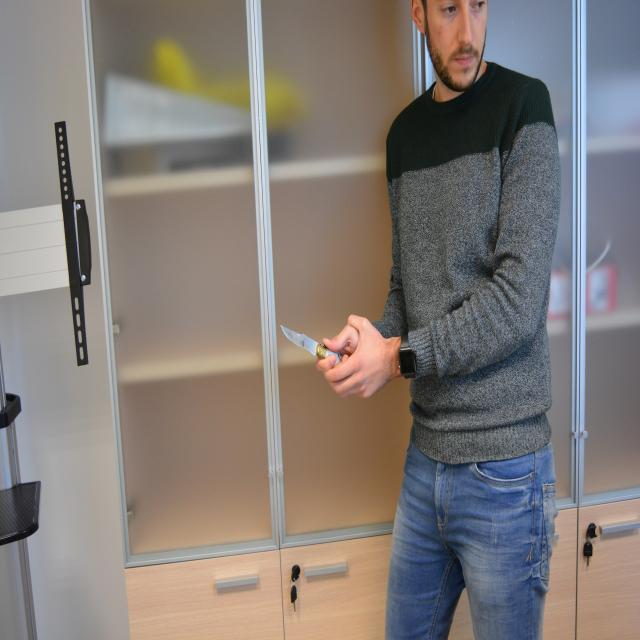knife: (279, 320, 342, 368)
